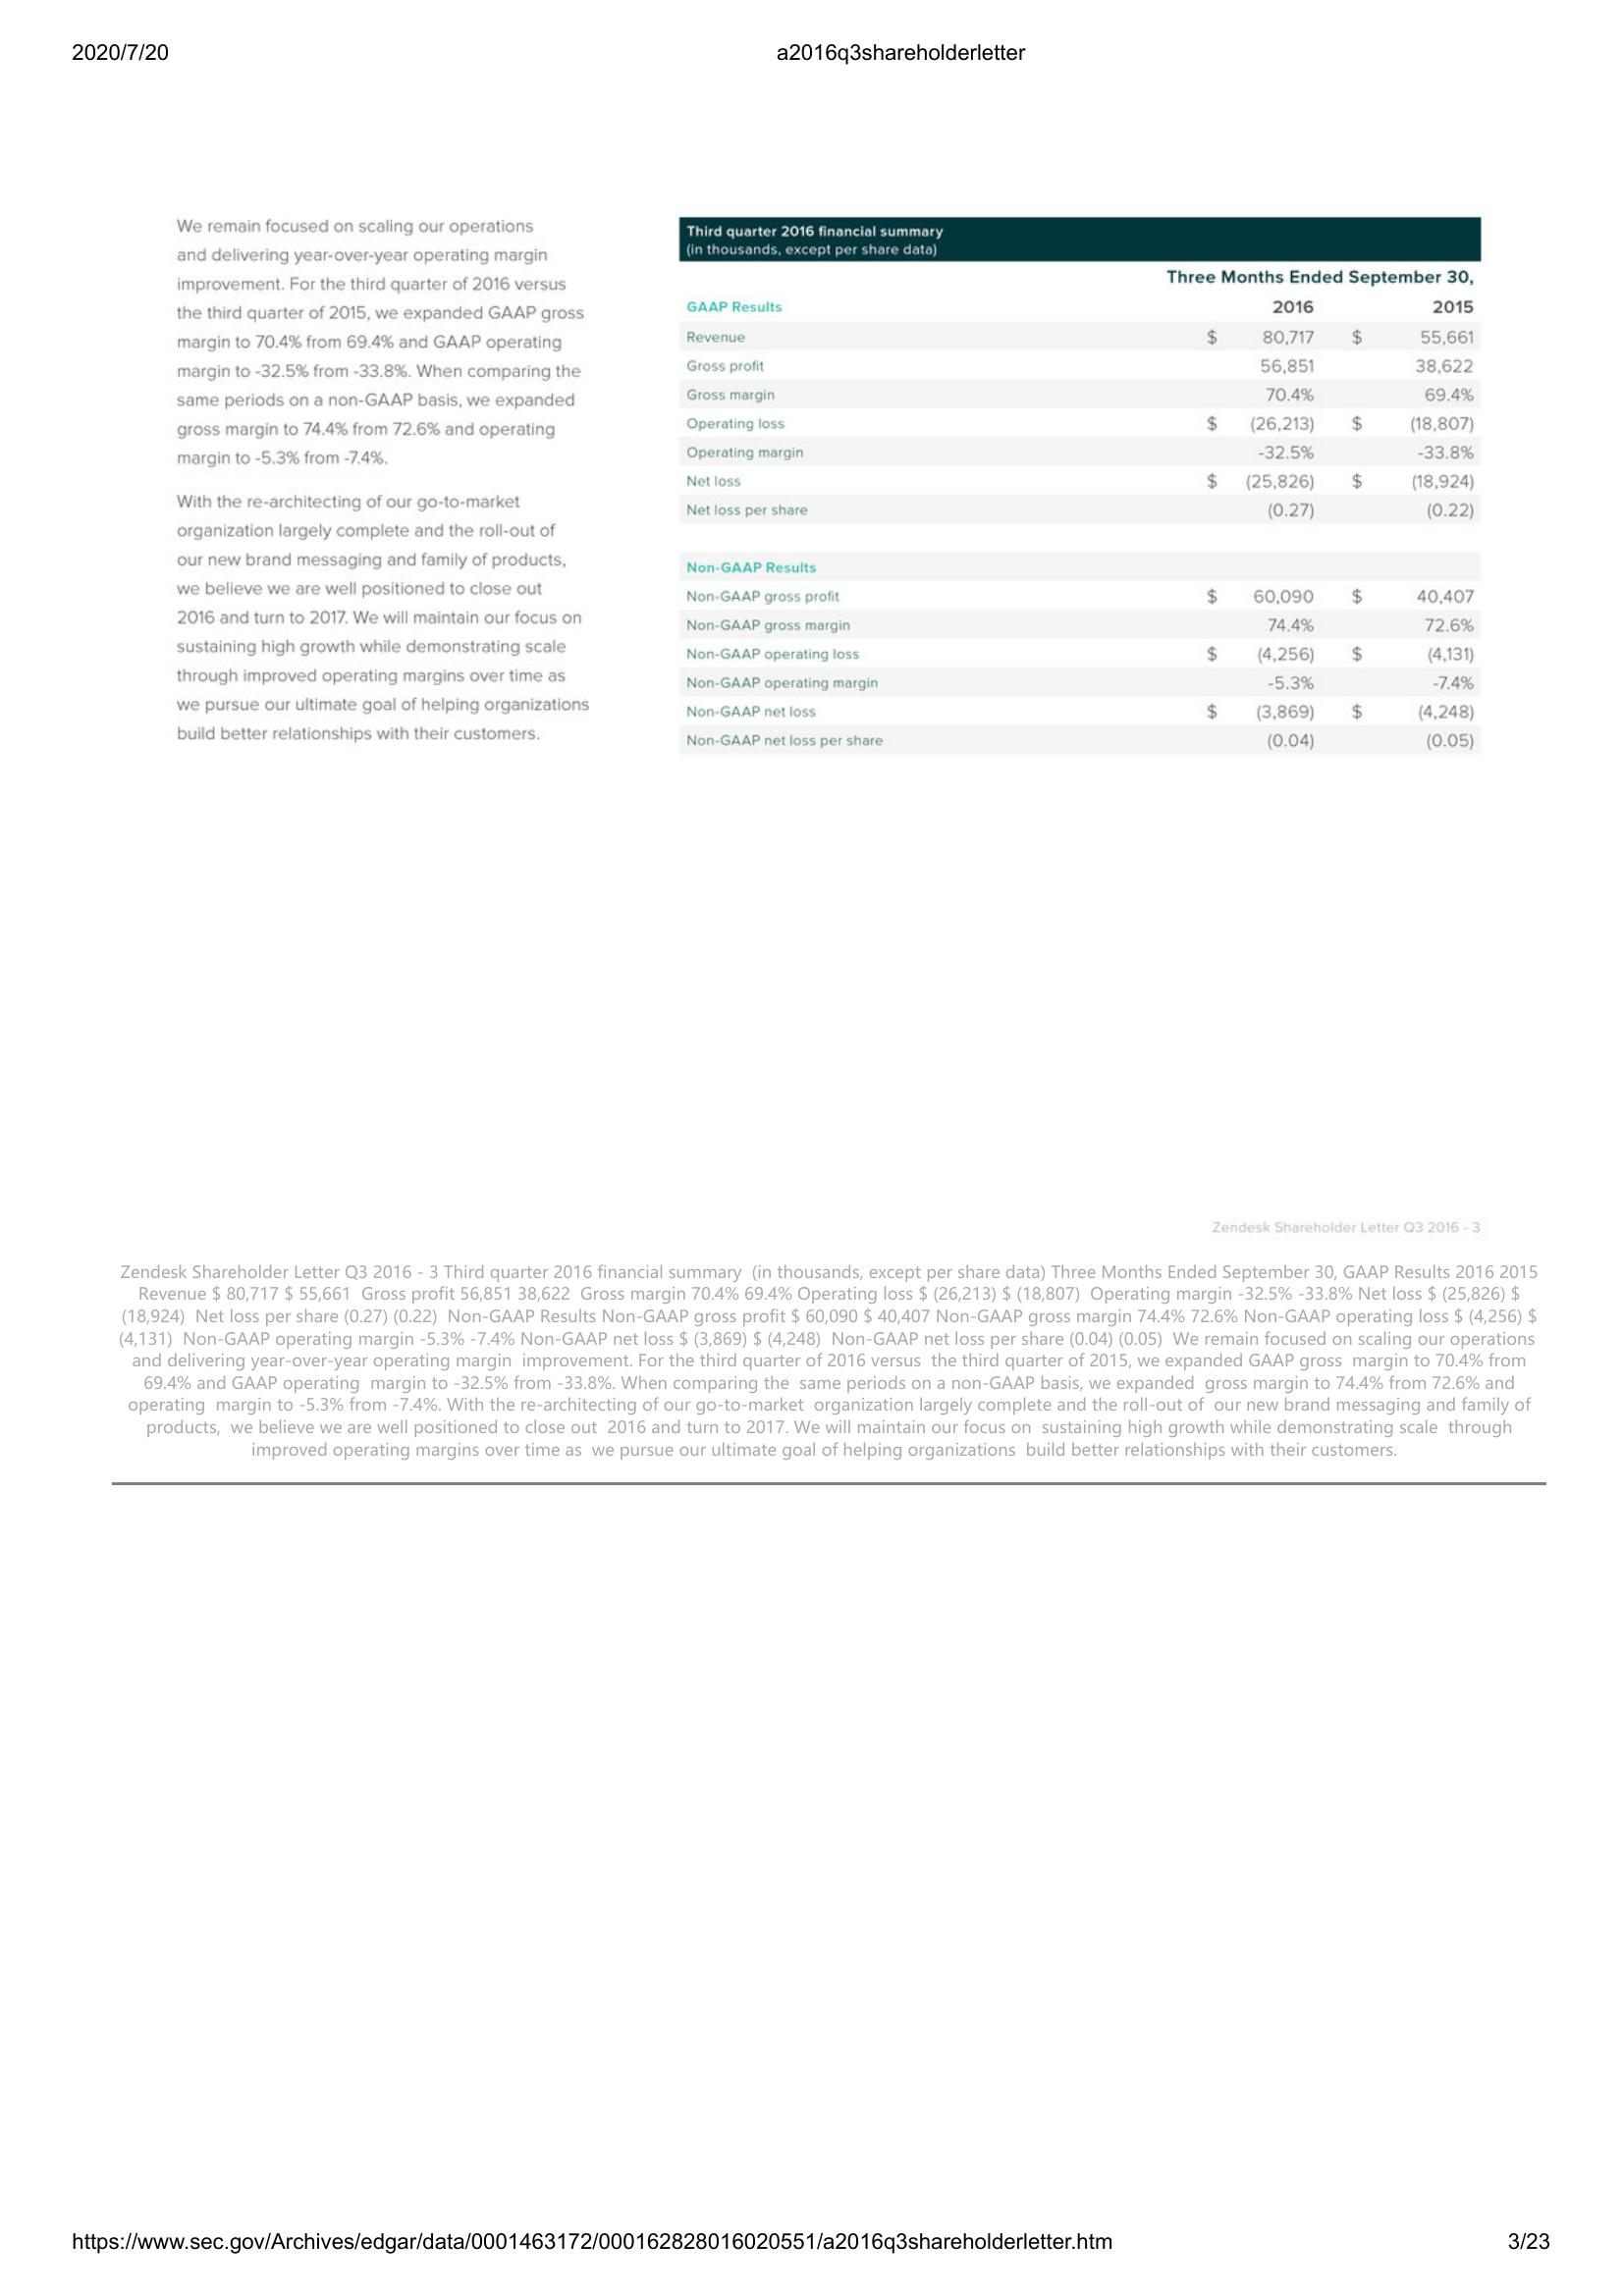table: (676, 207, 1495, 755)
